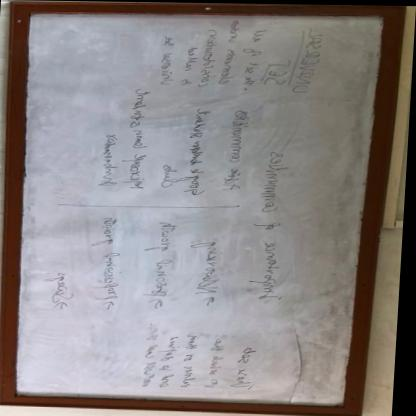Handwritten text: (251, 145, 302, 299), (86, 211, 133, 301), (123, 87, 158, 194), (137, 215, 181, 297), (182, 104, 219, 201), (222, 106, 257, 199), (292, 22, 334, 97), (185, 238, 236, 295), (237, 25, 266, 91), (96, 131, 123, 196), (160, 333, 186, 393), (209, 335, 236, 391), (183, 331, 207, 394), (235, 344, 266, 392), (219, 15, 240, 85), (154, 31, 180, 86), (41, 270, 80, 305), (199, 27, 220, 89), (181, 41, 201, 87), (159, 161, 185, 193), (264, 57, 291, 87)
Whiteboard: (16, 10, 387, 409)
